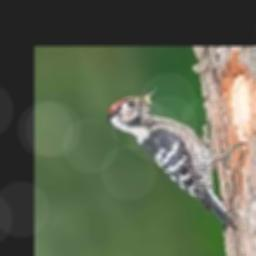Woodpecker: (106, 88, 246, 229)
